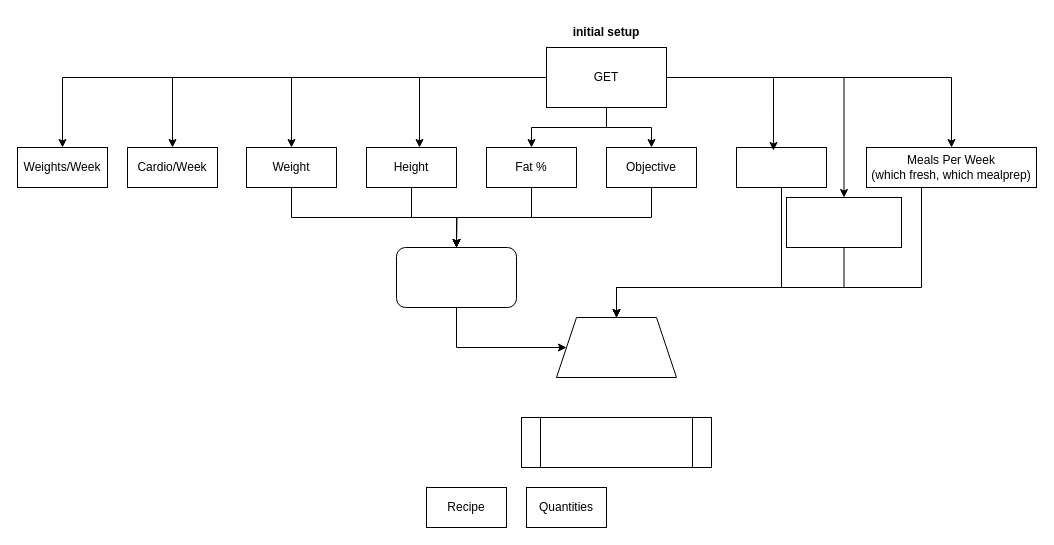
Image size: 1054x545. Some labels were removed from this diagram. The centre of each missing label's shape, as x and y in pixels:
"Allergies/undesired foods" goes at (x=844, y=222).
"Calculate macros, micros, and calories" goes at (x=456, y=277).
"Diet Type" goes at (x=781, y=167).
"prompt" goes at (x=616, y=347).
"Weekly meal prep recipe set" goes at (x=616, y=442).
